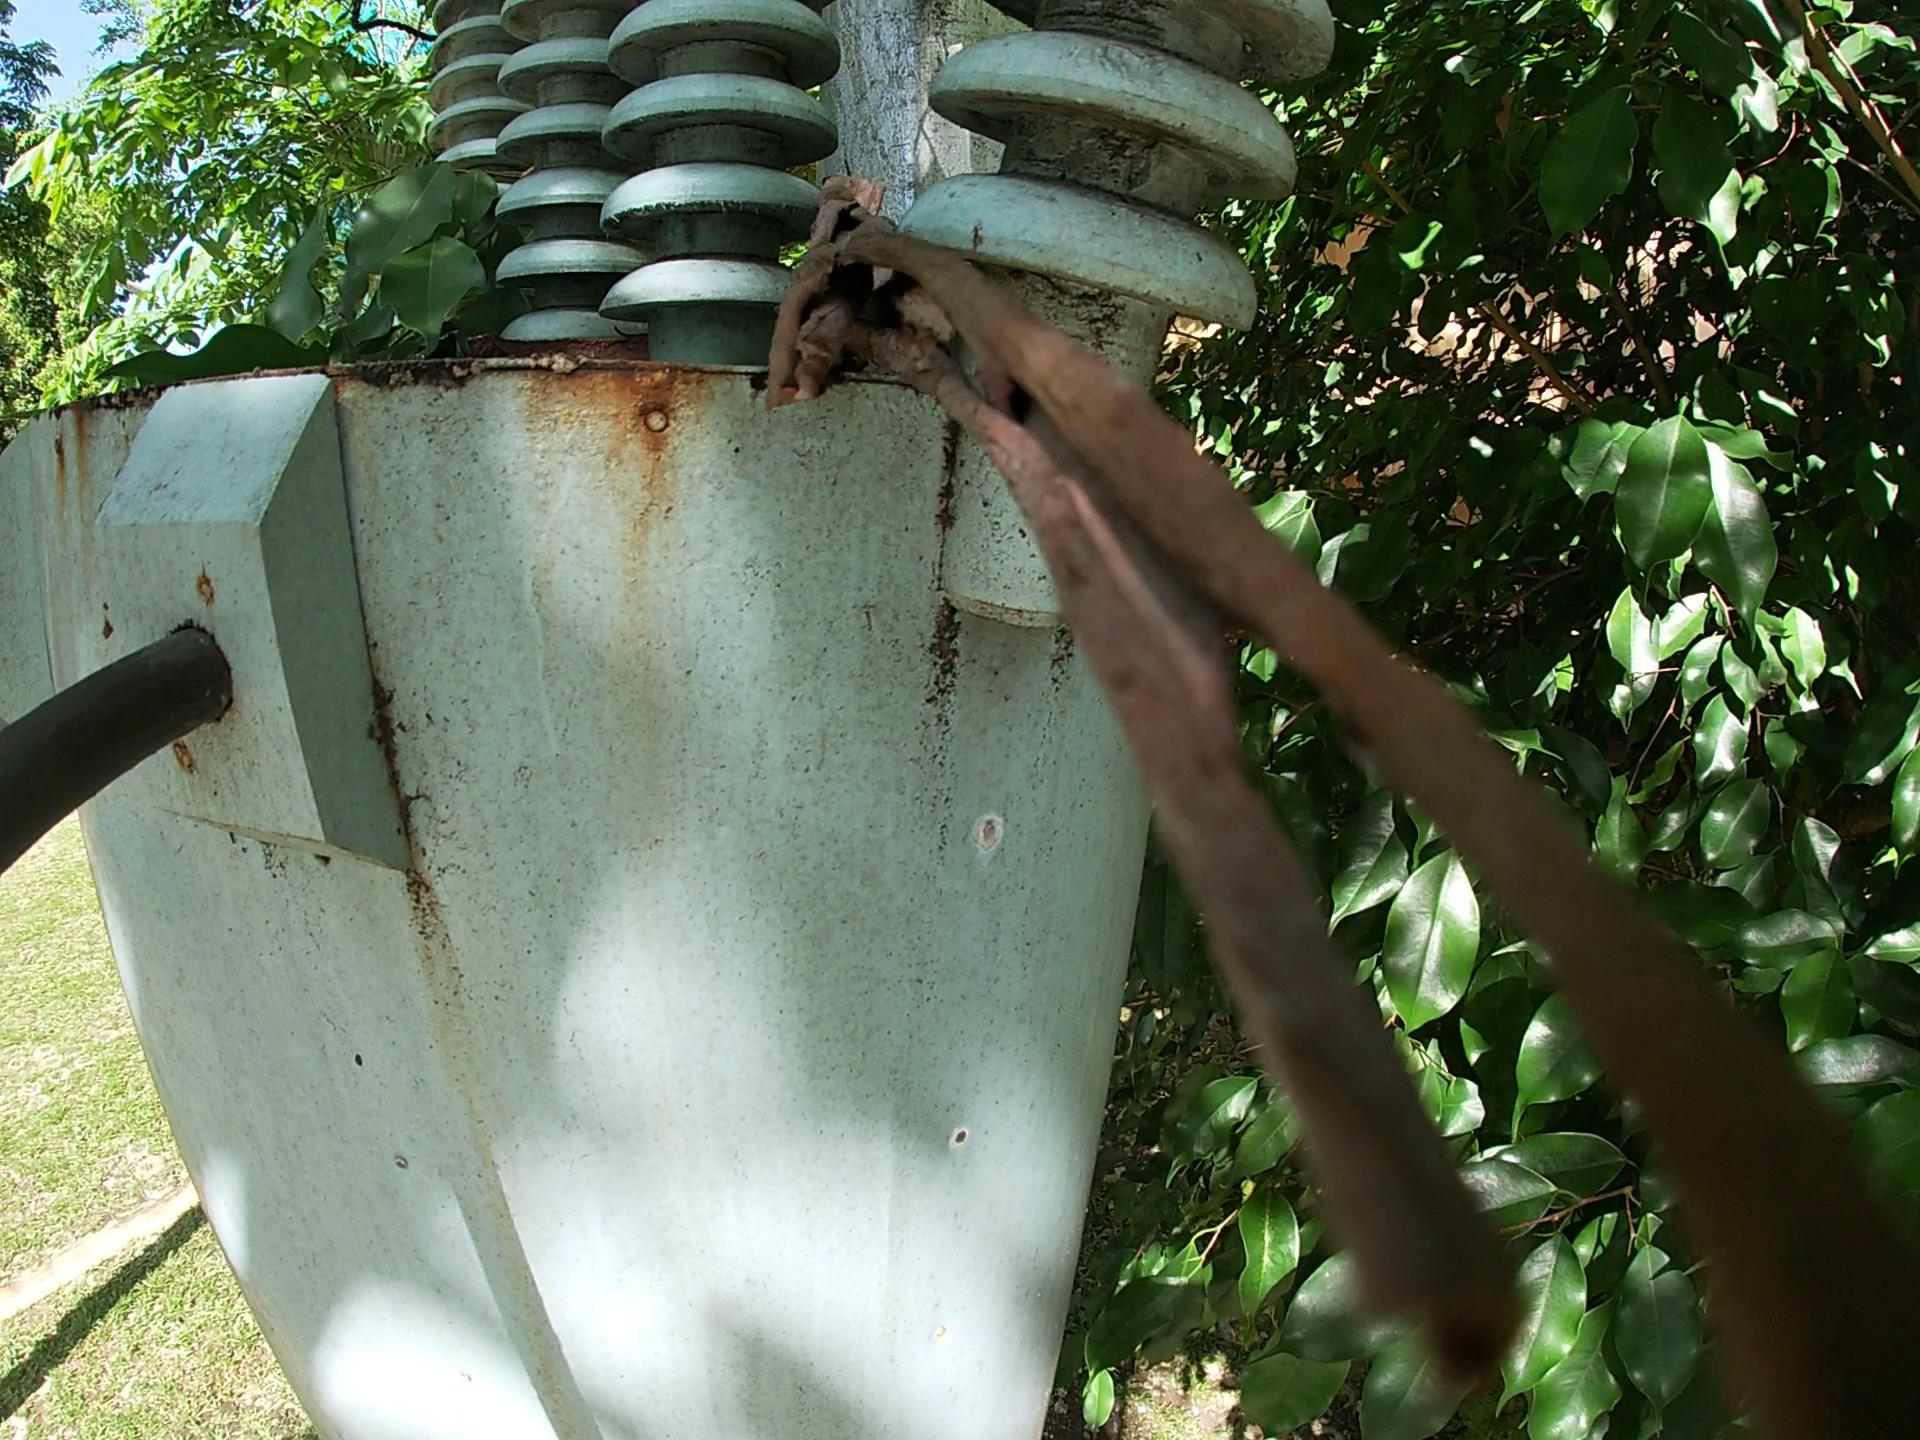branch with leaves: (33, 159, 509, 389)
mahogany fruit: (505, 322, 664, 365)
tree branch: (753, 150, 1829, 1401)
